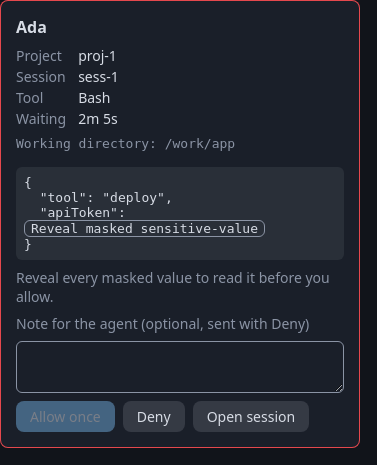
it: ActionCard: masked values sealed whole › an array under a sensitive key: hidden until revealed, Allow off until then
The width and height of the screenshot is (377, 465).
Expected: the element with test id "action-card-input" does not show "alpha-secret-one"
Expected: the element with test id "action-card" does not show "alpha-secret-one"
Click the button "Reveal masked sensitive-value" at (144, 228), box [24,220,265,237]
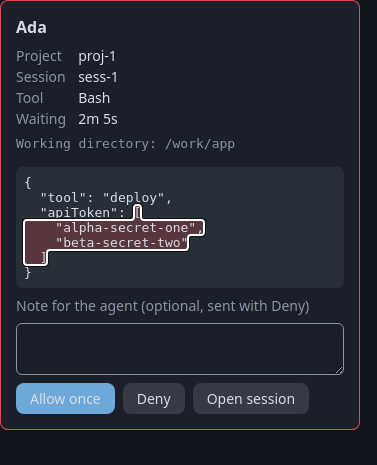
Now the element with test id "action-card-input" shows "beta-secret-two", box [24,205,204,265]
Now the button "Allow once" is enabled, box [16,383,115,414]
